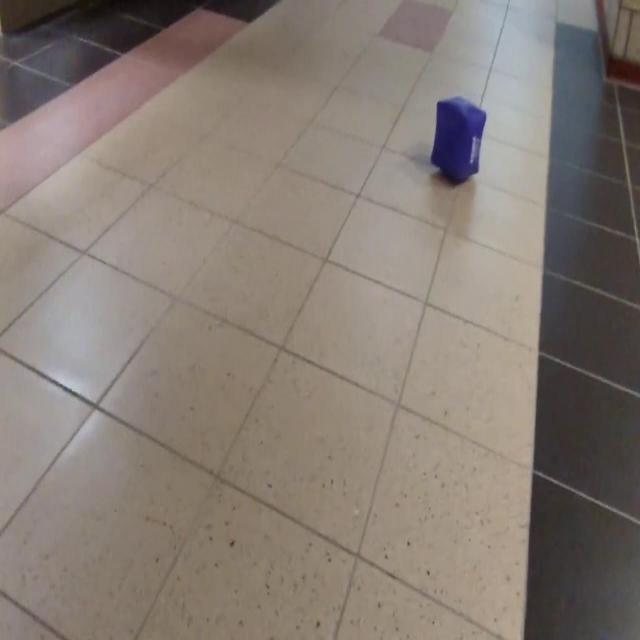frc_cube: (430, 95, 486, 183)
